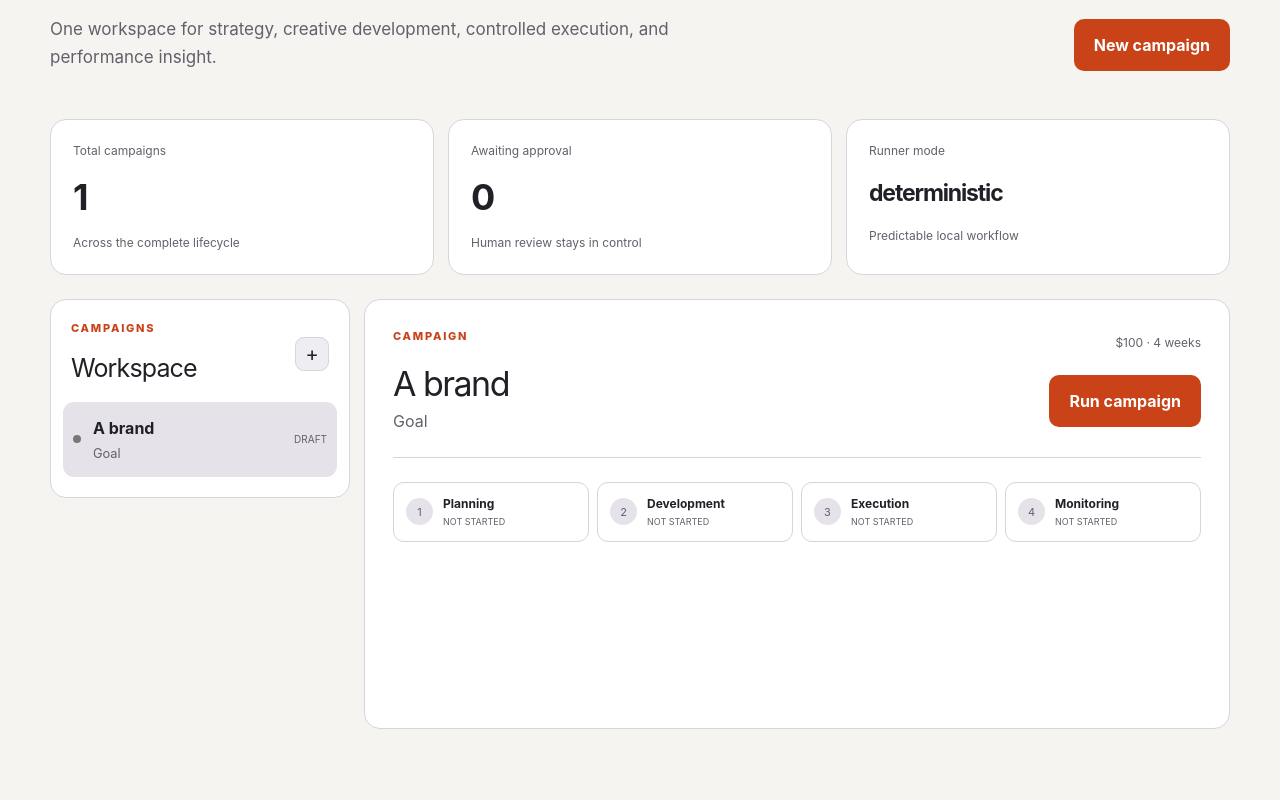
Test: 001-R1/R2/R5 workspace dashboard › clears content and refreshes memberships after 403
The image size is (1280, 800).
(page scrolled)
expect the heading "A brand" is shown: met, box x1=393 y1=358 x2=509 y2=409
Click the button "Run campaign". click: {"x": 1125, "y": 400}
box: x1=1049 y1=374 x2=1201 y2=426
(page scrolled)
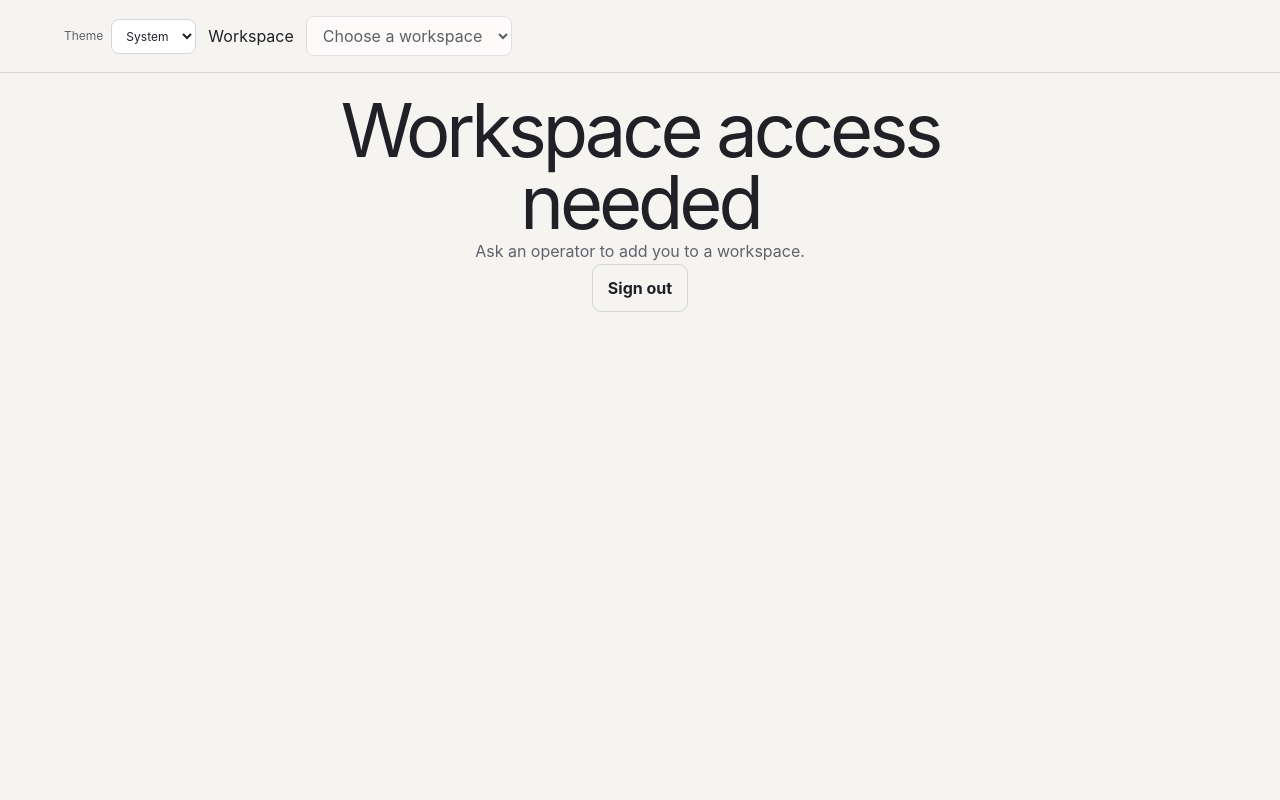
expect the heading "Workspace access needed" is shown: met, box x1=341 y1=85 x2=939 y2=247
expect the button "A brand" is gone: met
